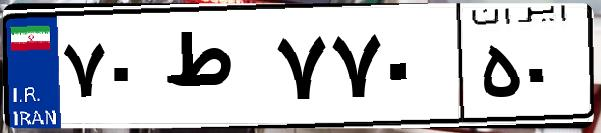0: (385, 28, 445, 110), (525, 38, 570, 115), (110, 28, 158, 98)
5: (475, 38, 525, 113)
7: (270, 28, 330, 110), (330, 28, 385, 110), (57, 26, 110, 100)
ط: (158, 20, 270, 120)
